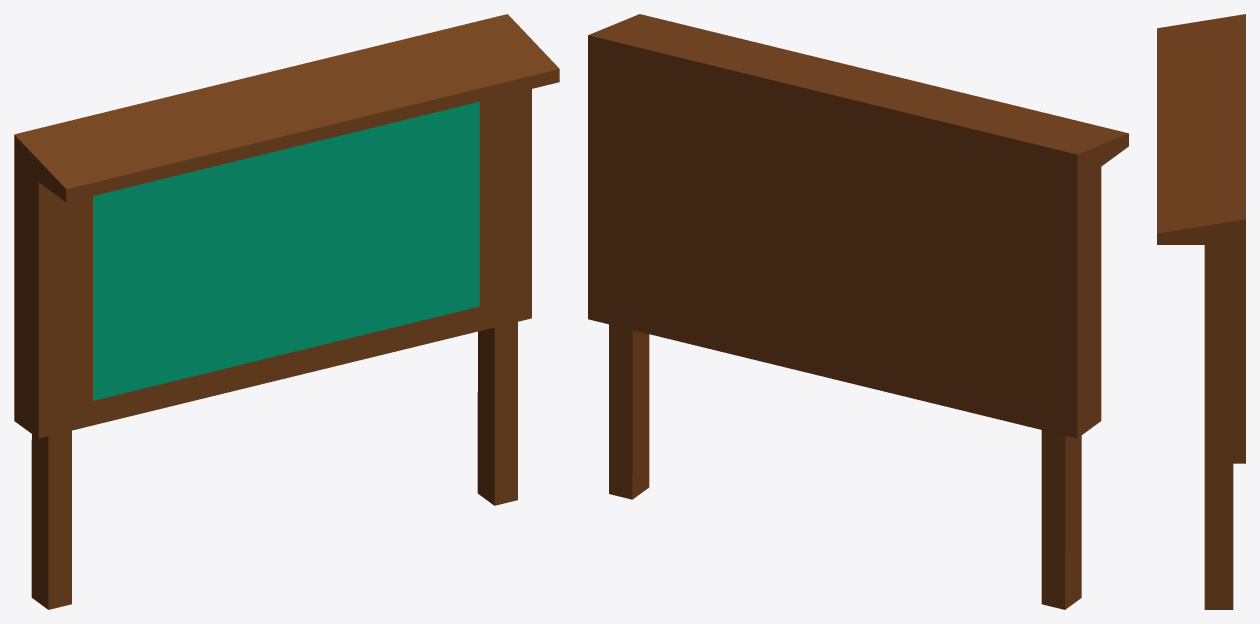
File: EN_TutorialSign.fbx
3 views of the same model, side by side, from view 1: azimuth 30°, elevation 25°; view 2: azimuth 150°, elevation 25°; view 3: azimuth 270°, elevation 25° (orthographic). The views are drawn at different scales.
Visible parts, largest first — view 1: EN_TutorialSign1; view 2: EN_TutorialSign1; view 3: EN_TutorialSign1.
Part boxes in pixels (<box>): EN_TutorialSign1: <box>14,14,559,609</box>; EN_TutorialSign1: <box>588,14,1128,609</box>; EN_TutorialSign1: <box>1157,14,1245,609</box>.
Bounding box in the file's own units: 345 × 311 × 63.13.
